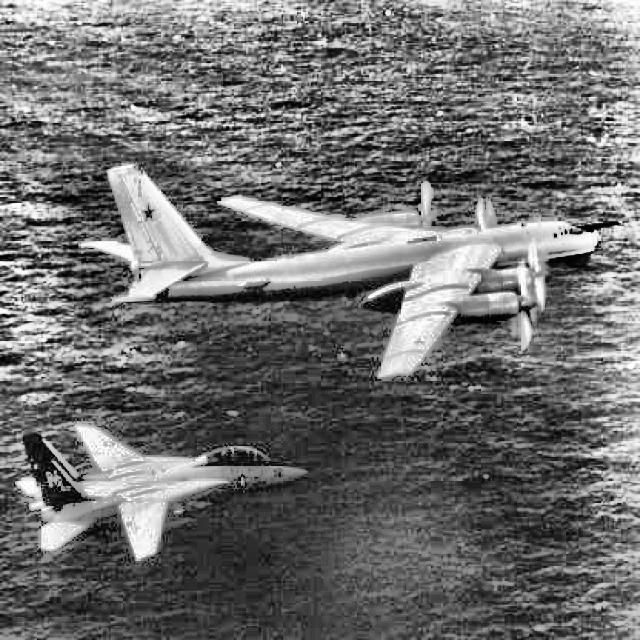F14: (14, 422, 308, 562)
Tu95: (76, 163, 622, 383)
